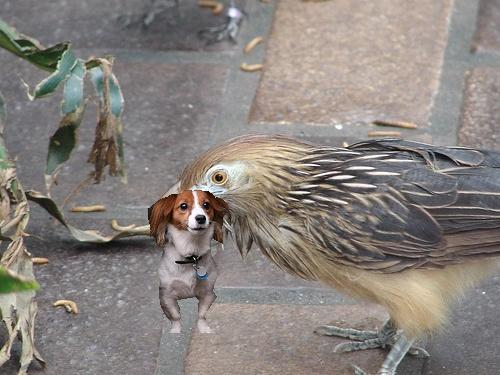tampered: (149, 191, 231, 333)
